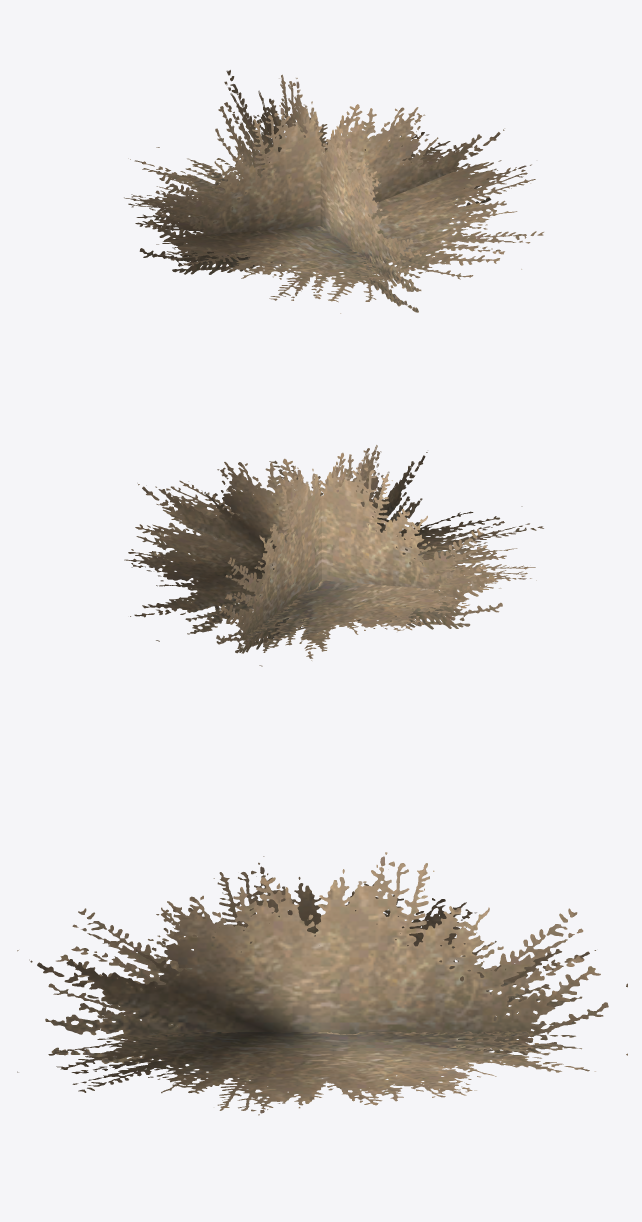
Rendered from shrb_dsrt_brown_a1_l1.fbx.
The picture shows the model from 3 angles, top to bottom: view 1: azimuth 30°, elevation 25°; view 2: azimuth 150°, elevation 25°; view 3: azimuth 270°, elevation 25°; orthographic projection. The views are drawn at different scales.
Parts seen in each view (by area): view 1: mesh_node; view 2: mesh_node; view 3: mesh_node.
Part boxes in pixels (box(x1,y1,x2,y2)): mesh_node: box(124, 70, 543, 313); mesh_node: box(124, 445, 543, 666); mesh_node: box(17, 852, 627, 1115).
Bounding box in the file's own units: 2.68 × 1.08 × 2.65.
Materials: 1 (1 with a texture image).
